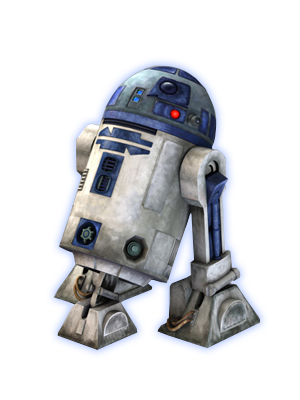r2d2: (53, 65, 260, 351)
